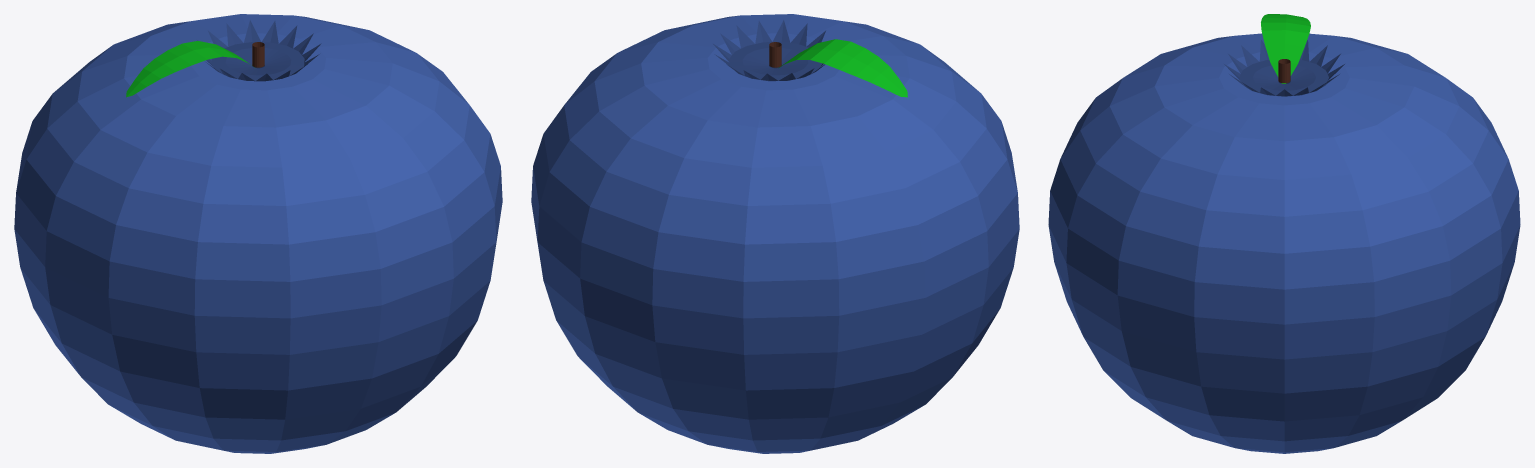
Rendered from Good_2.fbx.
The picture shows the model from 3 angles, left to right: view 1: azimuth 30°, elevation 25°; view 2: azimuth 150°, elevation 25°; view 3: azimuth 270°, elevation 25°; orthographic projection. The views are drawn at different scales.
Visible parts, largest first — view 1: BerryGood.002; view 2: BerryGood.002; view 3: BerryGood.002.
Boxes of the visible parts, x1,y1,x2,y2 form: BerryGood.002: [14, 14, 502, 453]; BerryGood.002: [531, 14, 1019, 453]; BerryGood.002: [1048, 14, 1520, 453].
Bounding box in the file's own units: 180 × 159 × 180.
